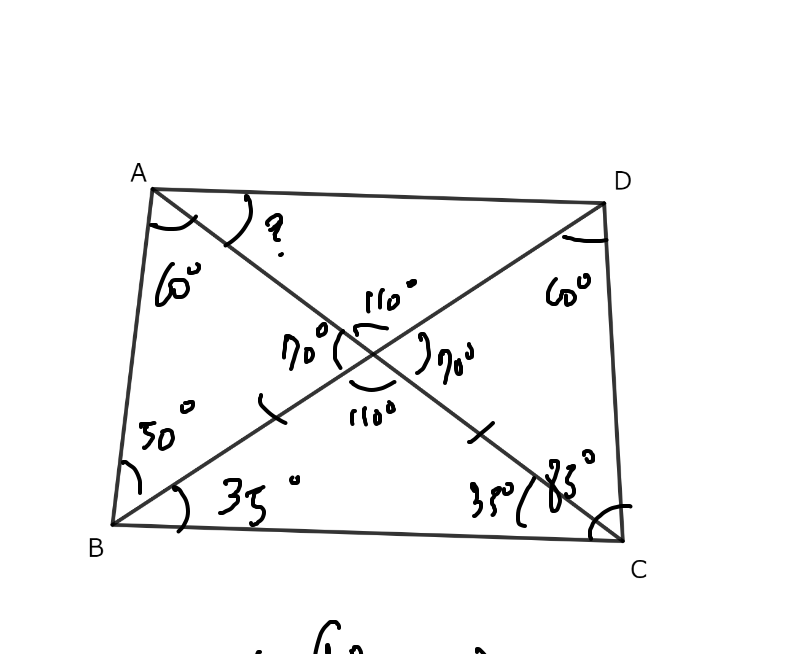Angle_Scurve: (211, 186, 256, 255), (583, 499, 649, 541), (162, 483, 197, 543), (509, 471, 544, 528), (407, 329, 437, 376), (115, 456, 146, 498), (324, 323, 350, 370), (149, 214, 199, 237), (344, 374, 397, 394), (348, 319, 393, 337), (560, 231, 609, 246)
Edge_Spine: (252, 389, 292, 428), (464, 414, 505, 446)
